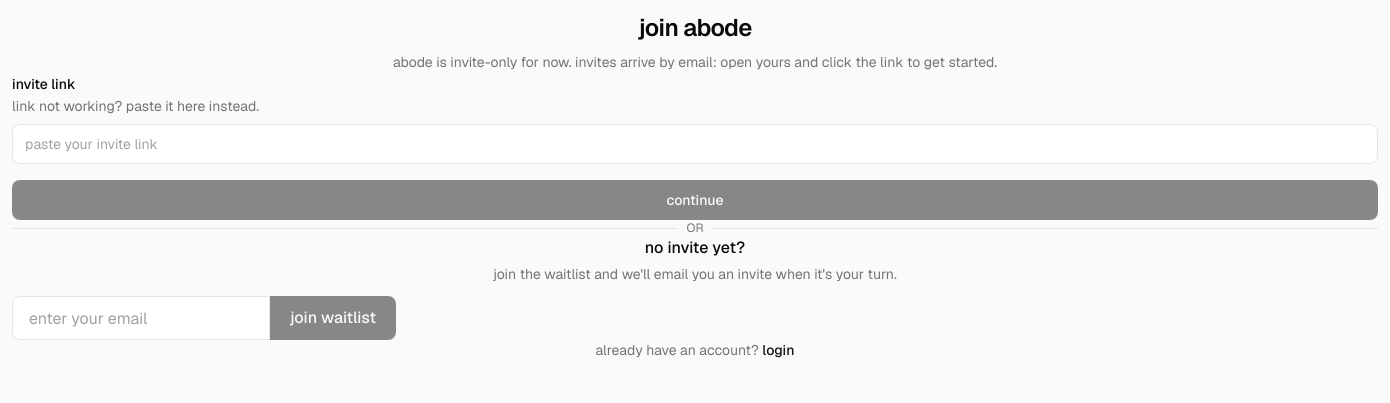
Test: JoinWithoutToken › clears the error once the paste is edited
Type "not a link" into the field labelled "invite link" at (695, 144), box [12, 124, 1378, 164]
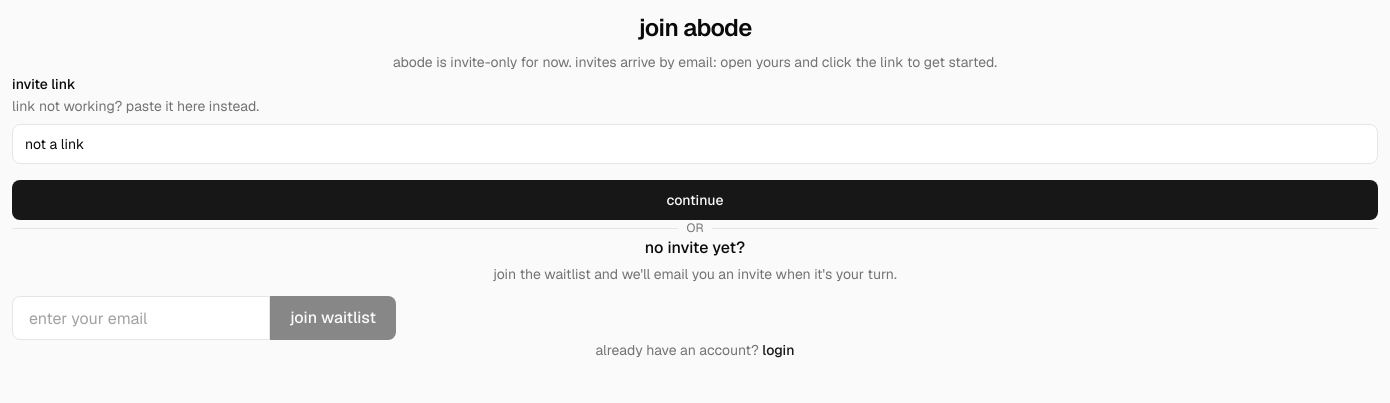
Click the button "continue" at (695, 200), box [12, 180, 1378, 220]
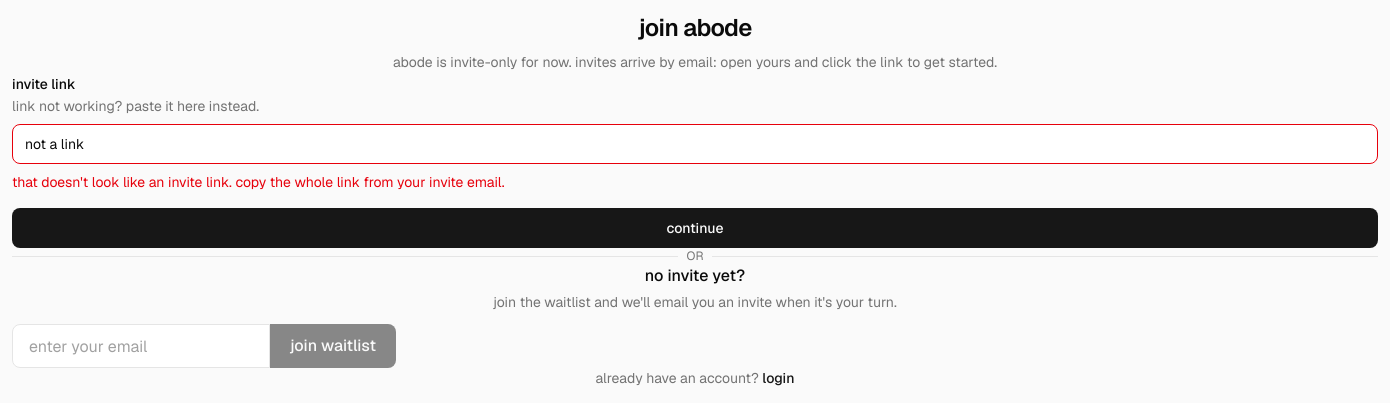
Replace the text in the field labelled "invite link" with "test-invite_1" at (695, 144), box [12, 124, 1378, 164]
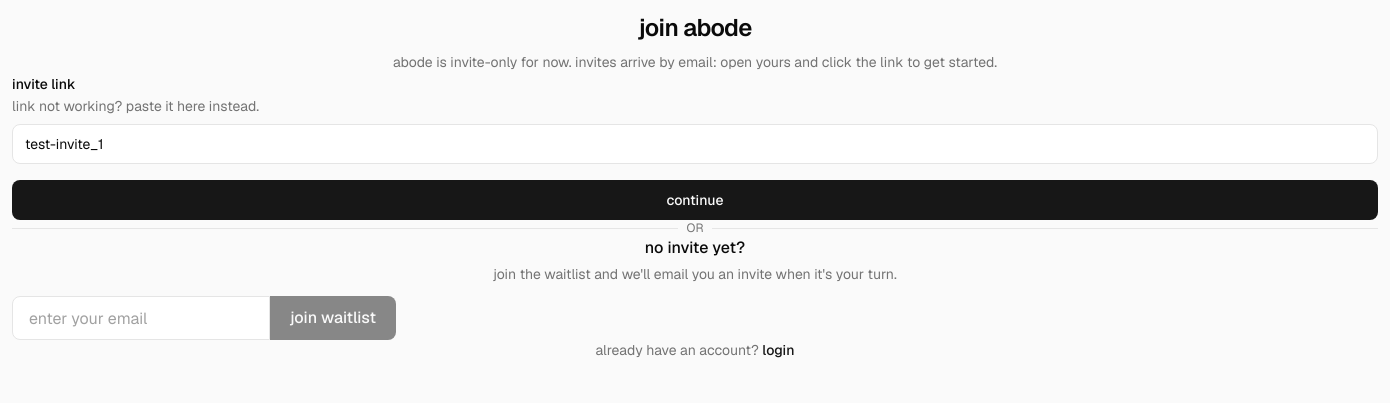
Expected: the message is gone
